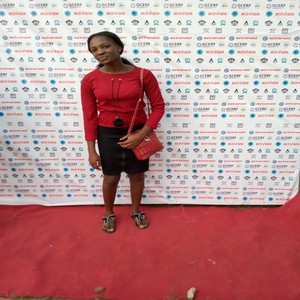Fulokoja_female_student: (80, 37, 149, 229)
